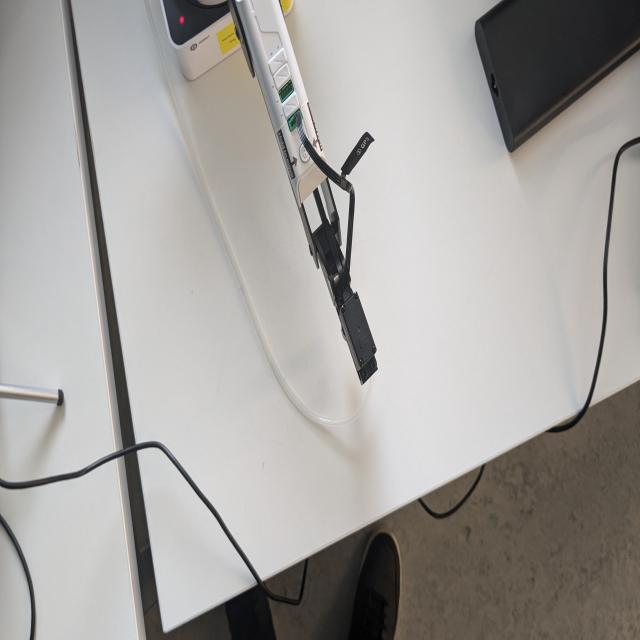Robot-end-effector-HF8z: (338, 287, 381, 394)
